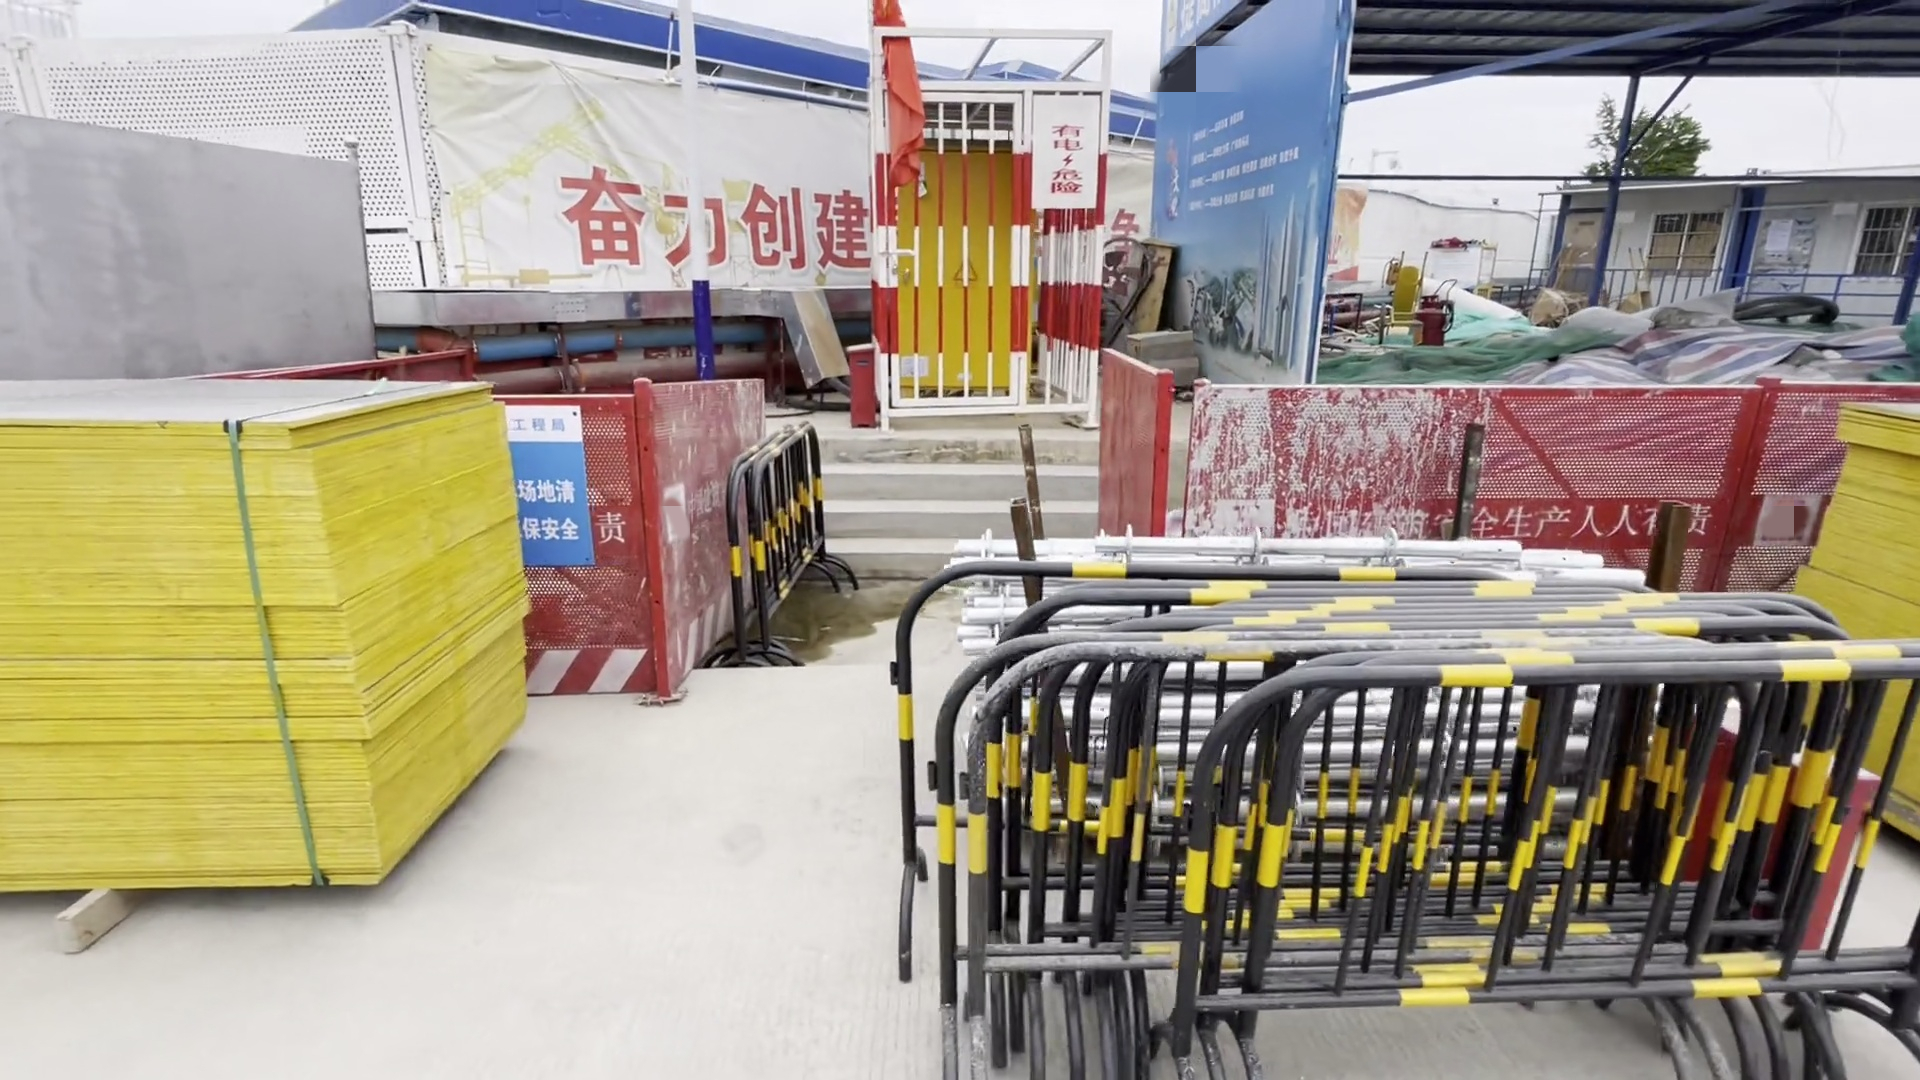board: (1, 377, 545, 923)
ebox: (886, 146, 1054, 409)
fence: (895, 584, 1898, 1080), (1116, 363, 1846, 583)
slogan: (556, 164, 855, 295)
